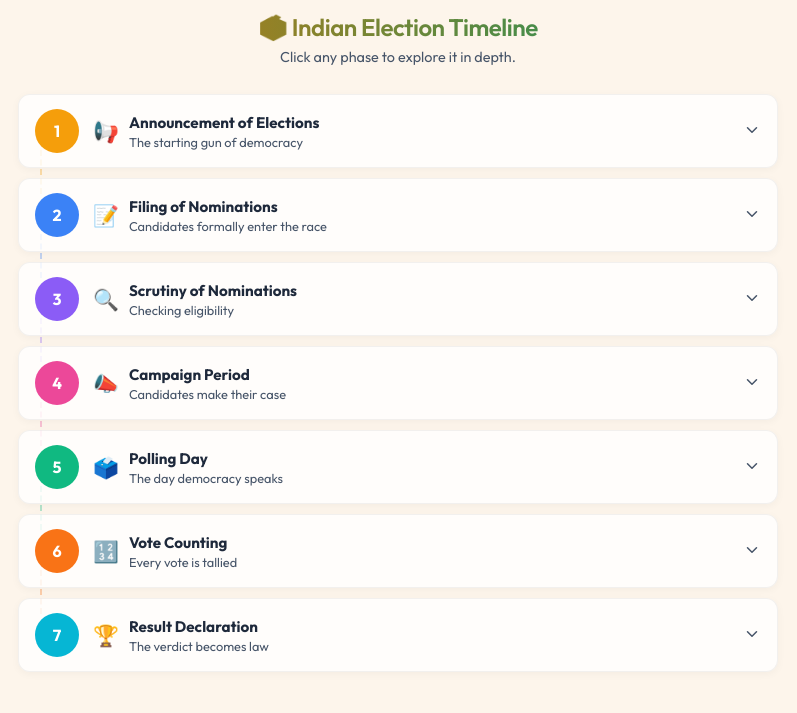
TimelineMode Component › expands a phase when clicked
Click to expand
Click the text "Announcement of Elections" at point(224, 122), box [129,112,319,132]
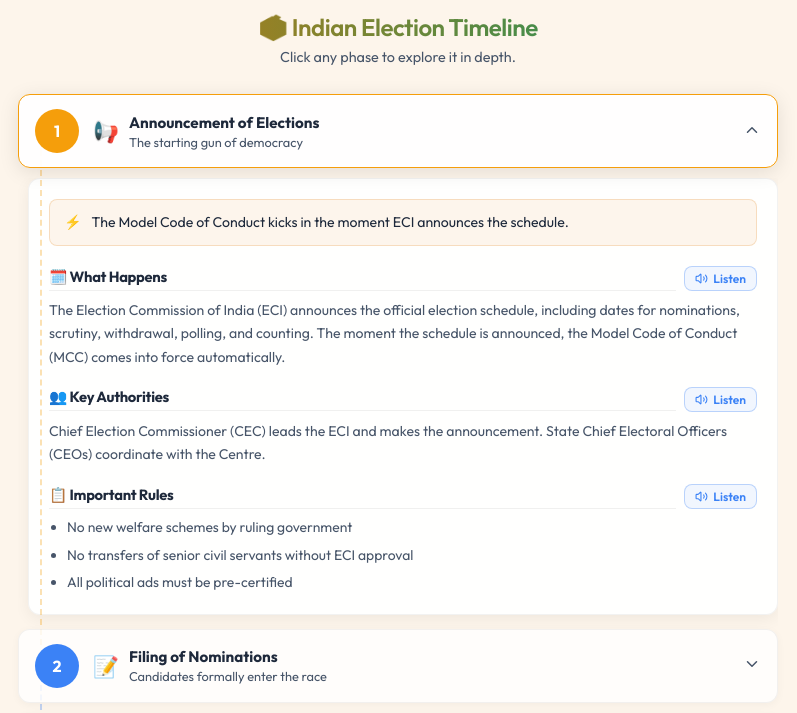
expect the text "The Election Commission of India (ECI) announces the official election schedule, including dates for nominations, scruti" is shown: met, box [49,301,740,366]
